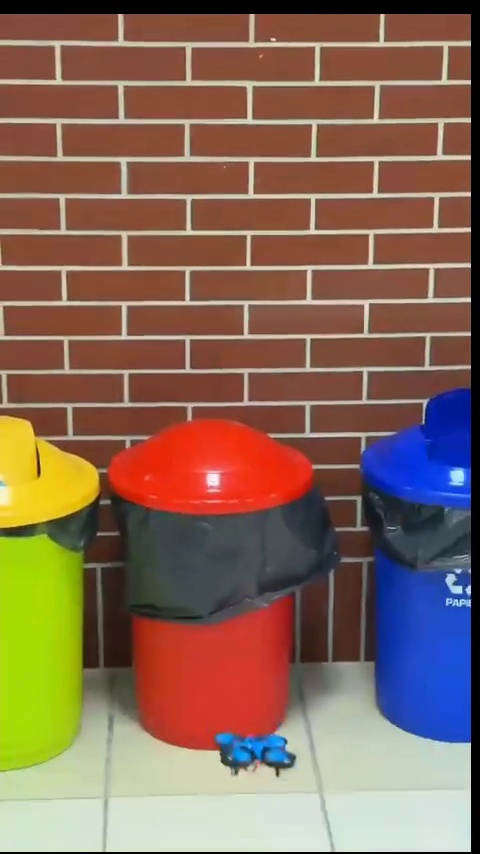drone: (208, 733, 292, 773)
